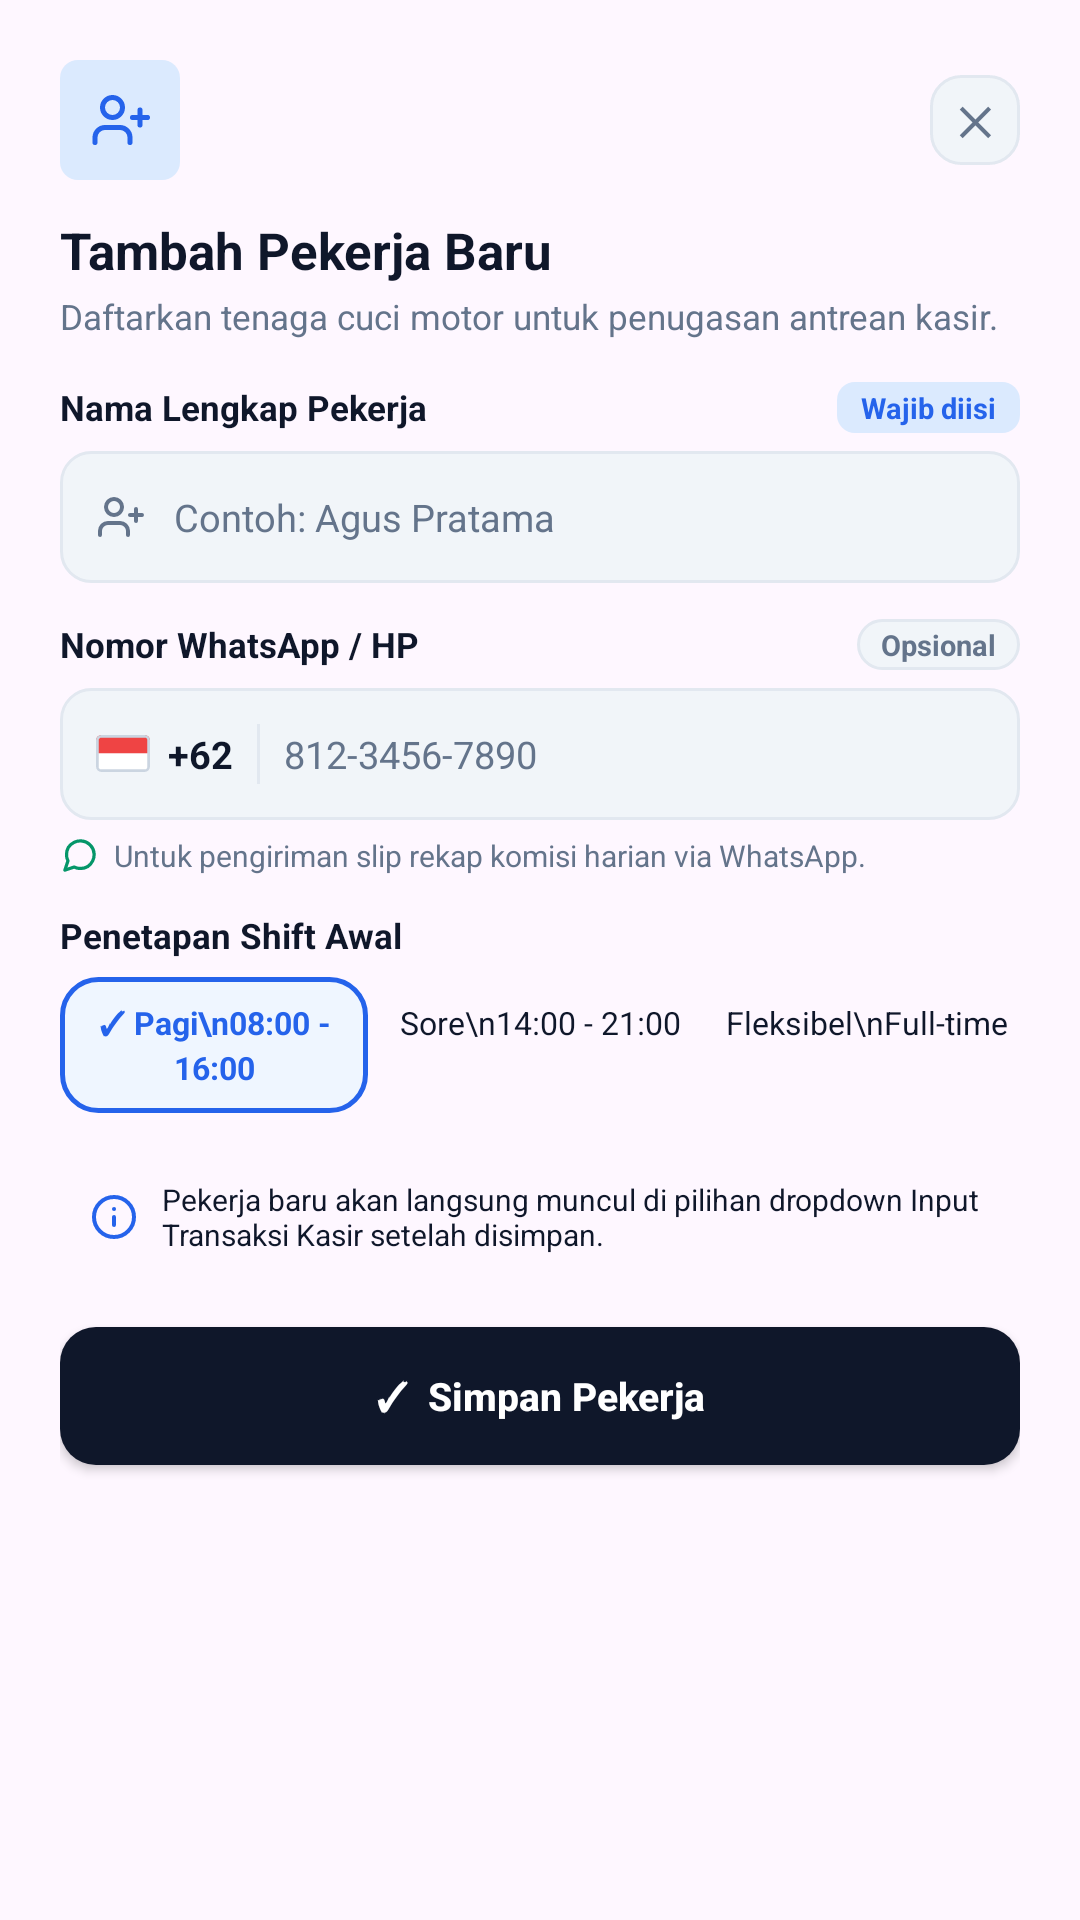

Locate icon controls on the screen. Image size 1080 x 1920, boxes as detection(x1, y1, x2, y2).
ID: detection(96, 735, 150, 772)
Info: detection(92, 1195, 136, 1239)
WA: detection(63, 839, 96, 872)
